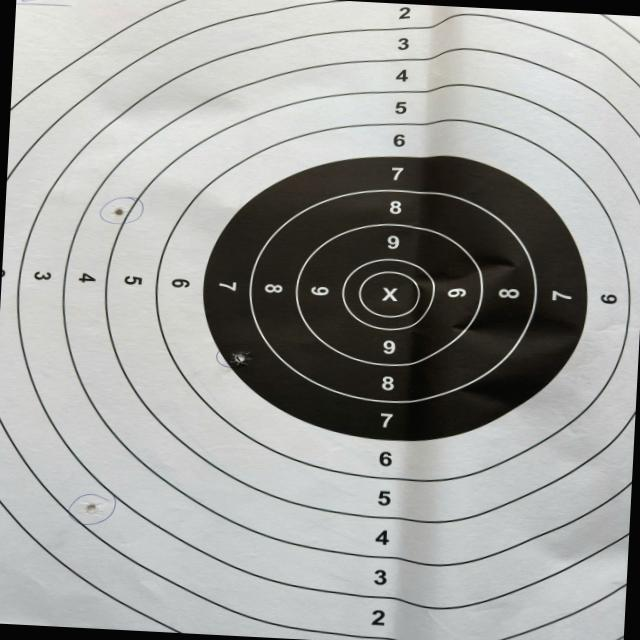bullet: (234, 352, 249, 368), (86, 504, 98, 516), (114, 209, 121, 217)
target: (0, 0, 640, 640)
